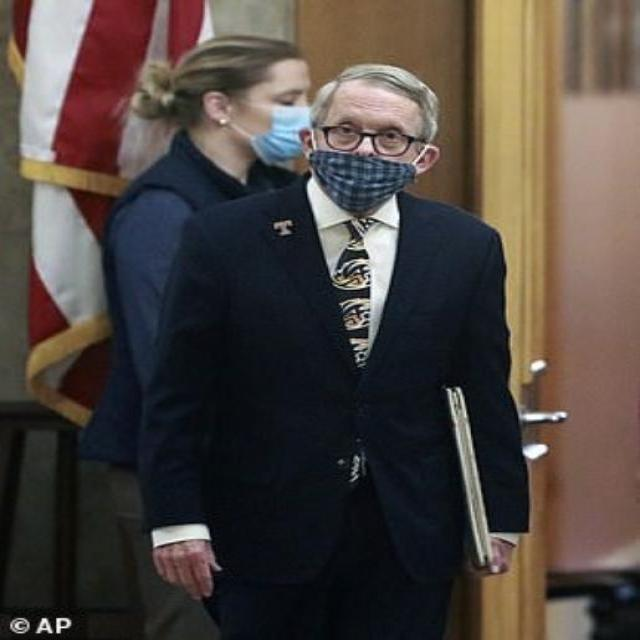bare_hand: (135, 535, 237, 602), (464, 521, 541, 591)
